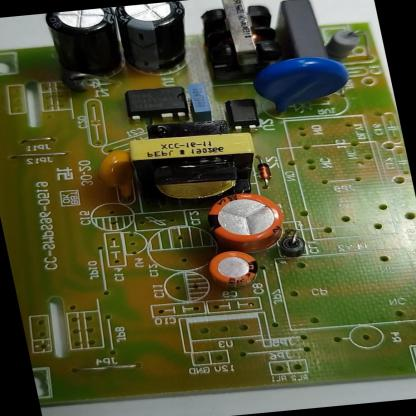Cap1: (196, 186, 298, 258)
Cap2: (196, 244, 268, 297)
Cap3: (108, 0, 199, 80)
Cap4: (36, 6, 143, 97)
MOSFET: (117, 83, 197, 129)
Mov: (236, 51, 361, 127)
Resistor: (320, 25, 372, 66)
Transformer: (117, 114, 270, 218), (199, 0, 289, 93)
